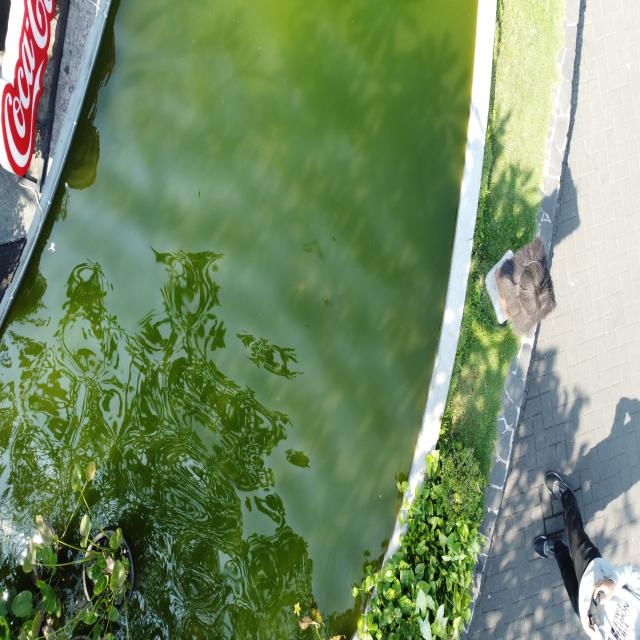Ponds: (1, 1, 501, 640)
